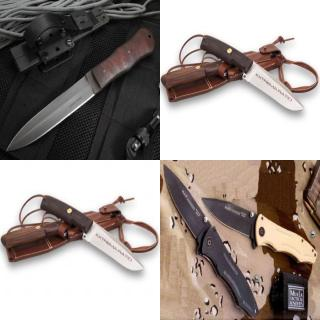knife: (5, 59, 111, 152), (162, 162, 214, 255), (238, 55, 308, 113), (78, 216, 148, 274), (200, 194, 262, 250)
